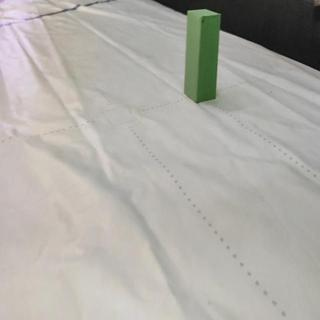greenbox: (185, 9, 221, 102)
